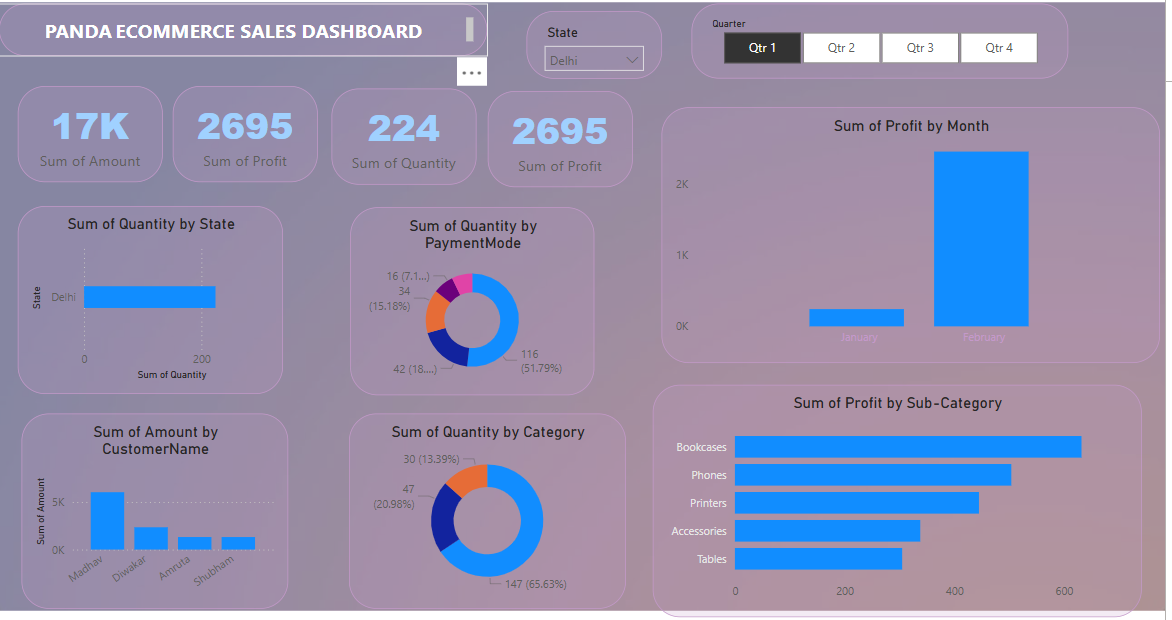

What the dashboard file says about the page in this screenshot:
{"tool":"powerbi","page":{"name":"Page 1","canvas":[1280,720],"ordinal":0},"visuals":[{"type":"textbox","box":[0,24.8,536.3,57.8],"z":0},{"type":"columnChart","fields":{"Category":["Orders.Order Date.Variation.Date Hierarchy.Month"],"Y":["Details.Profit"]},"box":[727.5,138.9,547.3,280.5],"z":1000},{"type":"barChart","fields":{"Category":["Details.Sub-Category"],"Y":["Details.Profit"]},"box":[717.7,443.2,536.5,255.2],"z":2000},{"type":"donutChart","fields":{"Category":["Details.Category"],"Y":["Details.Quantity"]},"box":[383.7,474.4,303.9,214.5],"z":3000},{"type":"donutChart","fields":{"Category":["Details.PaymentMode"],"Y":["Details.Quantity"]},"box":[385,248.9,268.2,206.3],"z":4000},{"type":"card","fields":{"Values":["Details.Amount"]},"box":[20.6,115.5,159.5,105.9],"z":5000},{"type":"card","fields":{"Values":["Details.Profit"]},"box":[191.1,115.5,159.5,105.9],"z":6000},{"type":"card","fields":{"Values":["Details.Quantity"]},"box":[364.4,118.3,159.5,105.9],"z":7000},{"type":"card","fields":{"Values":["Details.Profit"]},"box":[536.3,121,159.5,105.9],"z":8000},{"type":"barChart","fields":{"Category":["Orders.State"],"Y":["Details.Quantity"]},"box":[20.6,247.5,291.5,206.3],"z":9000},{"type":"columnChart","fields":{"Category":["Orders.CustomerName"],"Y":["Details.Amount"]},"box":[24.8,474.4,292.9,214.5],"z":10000},{"type":"slicer","fields":{"Values":["Orders.Order Date.Variation.Date Hierarchy.Quarter"]},"box":[760.5,24.8,413.9,82.5],"z":11000},{"type":"slicer","fields":{"Values":["Orders.State"]},"box":[578.9,33,148.5,74.3],"z":12000}]}

Visuals, with their boxes on the page's 1280x720 design canvas (x1, y1, x2, y2). These are canvas units, not pixel positions in the 1172x620 screenshot, which may show the page scaled, cropped or inside an application window:
textbox: [x1=0, y1=25, x2=536, y2=83]
columnChart - Orders.Order Date.Variation.Date Hierarchy.Month x Details.Profit: [x1=728, y1=139, x2=1275, y2=419]
barChart - Details.Sub-Category x Details.Profit: [x1=718, y1=443, x2=1254, y2=698]
donutChart - Details.Category x Details.Quantity: [x1=384, y1=474, x2=688, y2=689]
donutChart - Details.PaymentMode x Details.Quantity: [x1=385, y1=249, x2=653, y2=455]
card - Details.Amount: [x1=21, y1=116, x2=180, y2=221]
card - Details.Profit: [x1=191, y1=116, x2=351, y2=221]
card - Details.Quantity: [x1=364, y1=118, x2=524, y2=224]
card - Details.Profit: [x1=536, y1=121, x2=696, y2=227]
barChart - Orders.State x Details.Quantity: [x1=21, y1=248, x2=312, y2=454]
columnChart - Orders.CustomerName x Details.Amount: [x1=25, y1=474, x2=318, y2=689]
slicer - Orders.Order Date.Variation.Date Hierarchy.Quarter: [x1=760, y1=25, x2=1174, y2=107]
slicer - Orders.State: [x1=579, y1=33, x2=727, y2=107]
